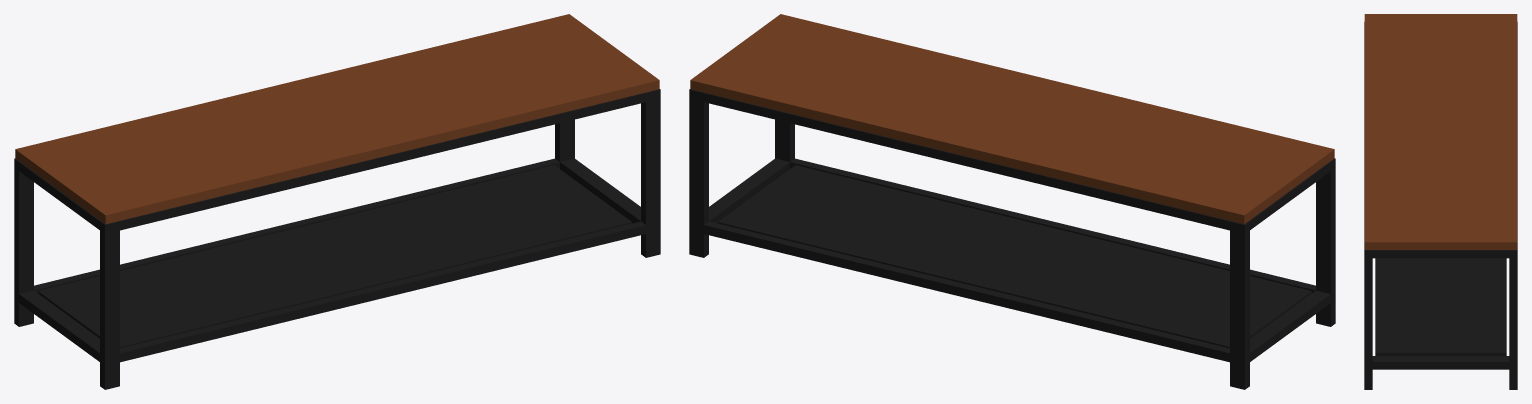
Rendered from table.glb.
3 views of the same model, side by side, from view 1: azimuth 30°, elevation 25°; view 2: azimuth 150°, elevation 25°; view 3: azimuth 270°, elevation 25° (orthographic). The views are drawn at different scales.
Visible parts, largest first — view 1: Node; view 2: Node; view 3: Node.
Boxes of the visible parts, left/top/right/bottom form: Node: left=14, top=14, right=660, bottom=389; Node: left=689, top=14, right=1335, bottom=389; Node: left=1364, top=14, right=1517, bottom=389.
Size of the model in its own units: 4.75 by 1.42 by 1.35.
